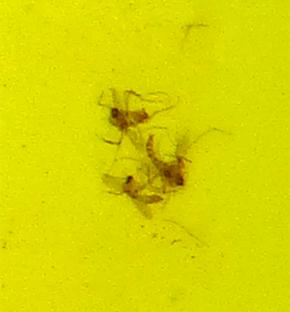Nematocera: (141, 134, 190, 188), (115, 172, 165, 212), (100, 100, 154, 131)
